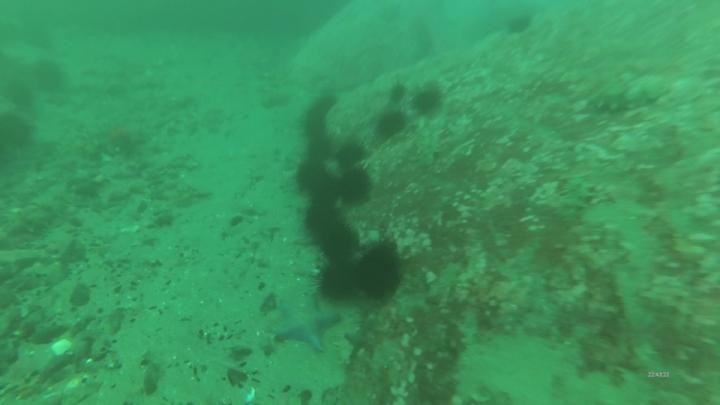echinus: (353, 246, 401, 304), (311, 257, 361, 303), (317, 221, 363, 263), (303, 201, 350, 237), (1, 112, 38, 154), (30, 57, 67, 97), (339, 165, 373, 206), (294, 157, 330, 192), (374, 108, 409, 142), (308, 173, 344, 203), (333, 142, 370, 170), (409, 90, 444, 119), (305, 133, 337, 159), (386, 80, 411, 110), (301, 111, 328, 136), (507, 13, 535, 36), (312, 93, 340, 113)
holothurian: (590, 80, 671, 116)
starfish: (272, 296, 344, 356)
